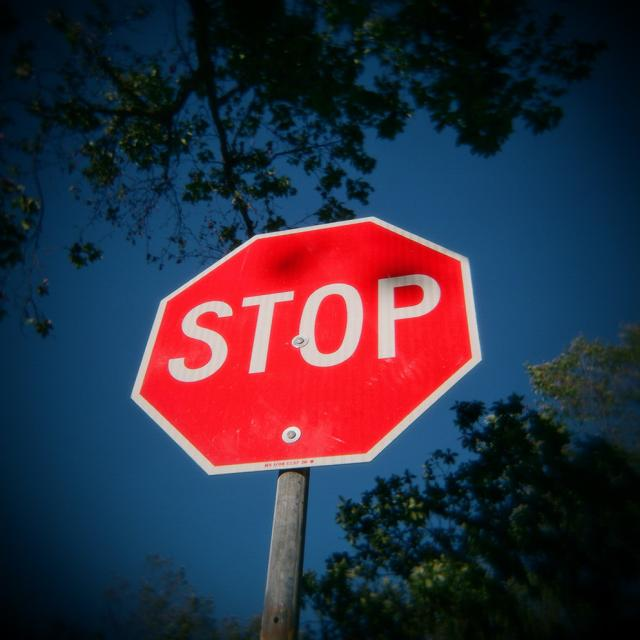Stop-sign: (130, 214, 485, 477)
